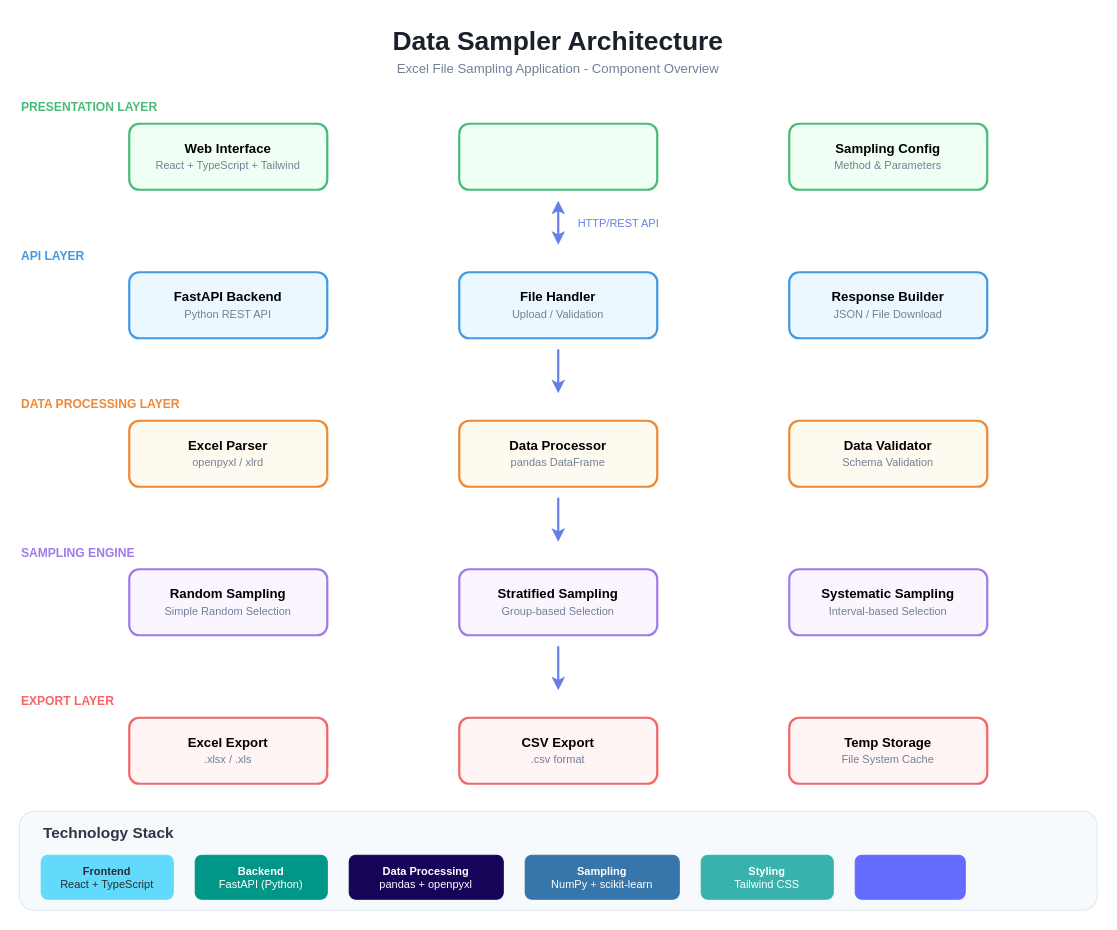
The diagram is 1117 pixels wide and 930 high, and some of its shapes have lost their labels. The shapes that lost their labels are listed below. From the top down, each one's centre as x and y in pixels, then its label:
At (558,156): "File Upload UI Drag & Drop / Browse".
At (909,876): "Build Tool Vite".
